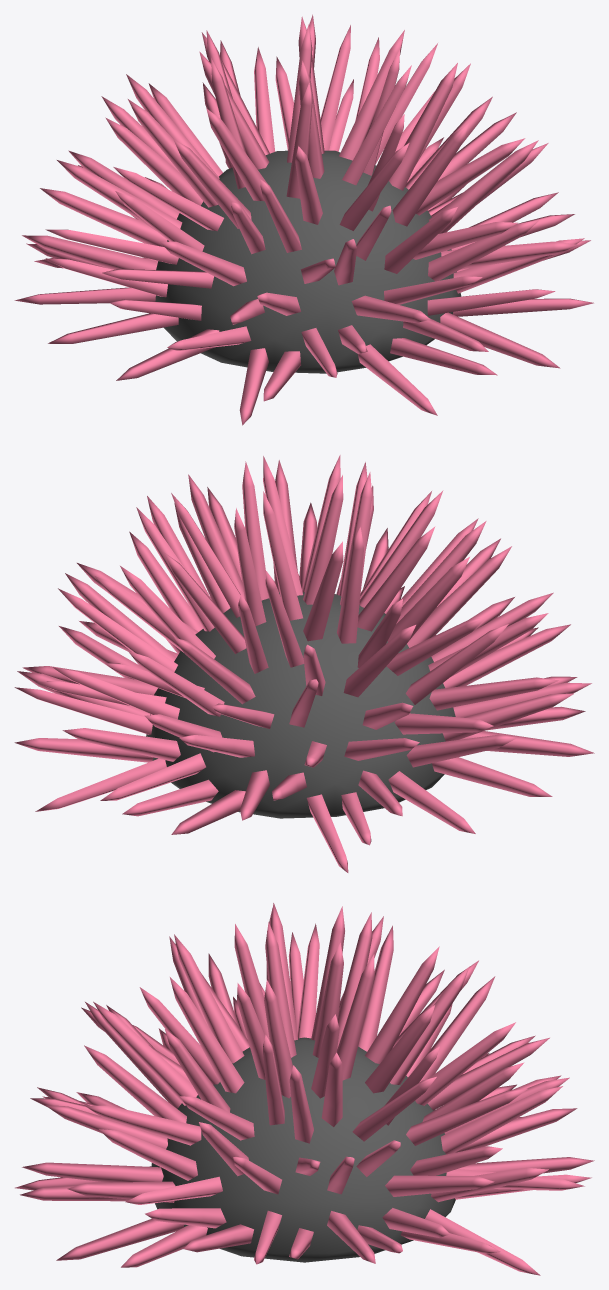
File: Urchin.fbx
The picture shows the model from 3 angles, top to bottom: view 1: azimuth 30°, elevation 25°; view 2: azimuth 150°, elevation 25°; view 3: azimuth 270°, elevation 25°; orthographic projection.
Visible parts, largest first — view 1: node-0; view 2: node-0; view 3: node-0.
Part boxes in pixels (box(x1,y1,x2,y2)): node-0: box(14, 14, 593, 425); node-0: box(14, 455, 594, 872); node-0: box(15, 903, 594, 1275).
Size of the model in its own units: 25780 by 14819 by 26018.
